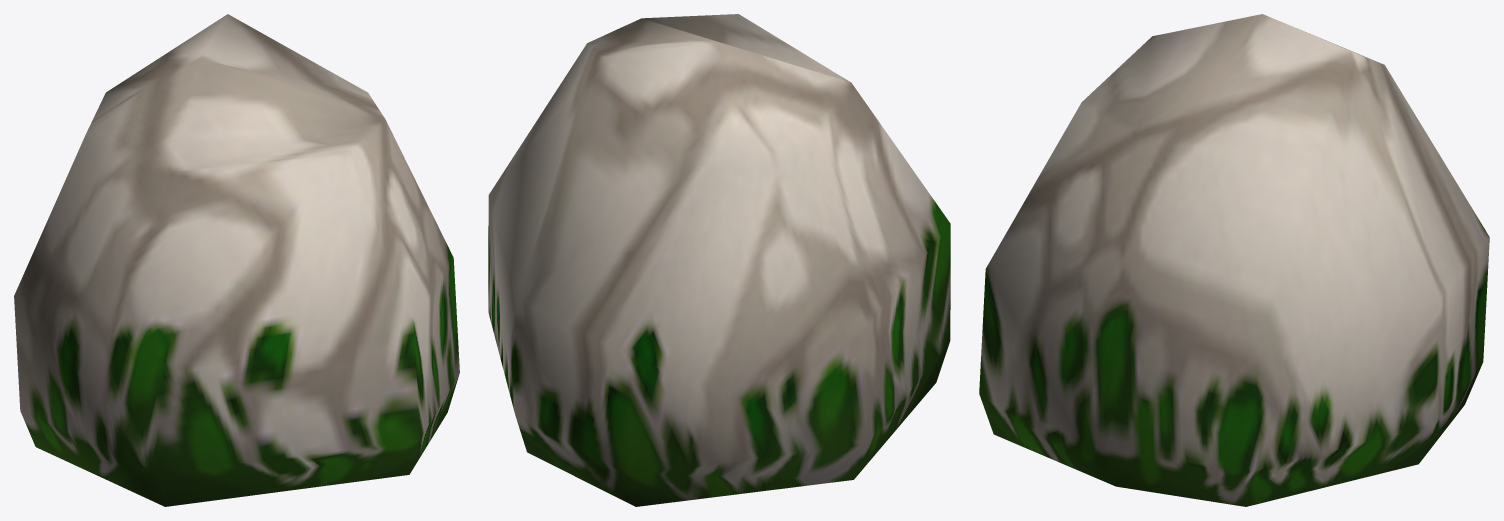
File: Rock_03.FBX
3 renders of one model, left to right at view 1: azimuth 30°, elevation 25°; view 2: azimuth 150°, elevation 25°; view 3: azimuth 270°, elevation 25°, orthographic. The views are drawn at different scales.
Visible parts, largest first — view 1: Rock_03; view 2: Rock_03; view 3: Rock_03.
Part boxes in pixels (<box>): Rock_03: <box>14,14,459,506</box>; Rock_03: <box>488,14,950,506</box>; Rock_03: <box>979,14,1489,506</box>.
Size of the model in its own units: 0.4623 by 0.4216 by 0.489.
